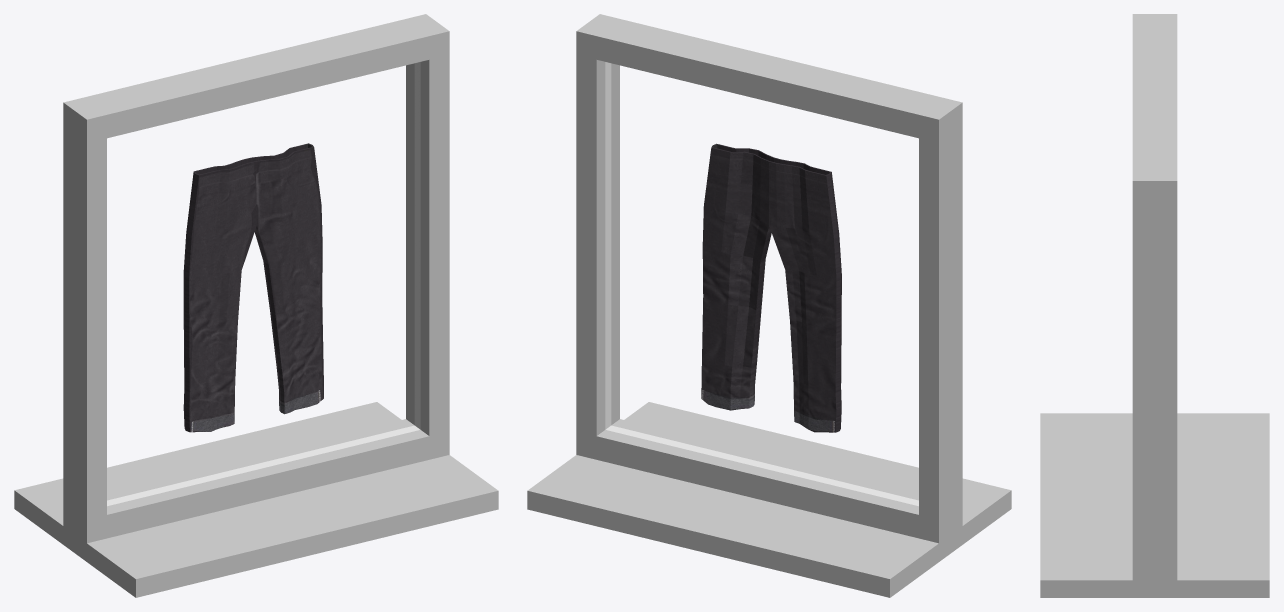
Rendered from inari_black_denim.glb.
3 views of the same model, side by side, from view 1: azimuth 30°, elevation 25°; view 2: azimuth 150°, elevation 25°; view 3: azimuth 270°, elevation 25° (orthographic). The views are drawn at different scales.
Visible parts, largest first — view 1: Cube.035, Plane.058; view 2: Cube.035, Plane.058; view 3: Cube.035.
Boxes of the visible parts, box(x1,y1,x2,y2) form: Cube.035: box(14, 14, 498, 597); Plane.058: box(183, 143, 323, 432); Cube.035: box(527, 14, 1011, 597); Plane.058: box(701, 143, 841, 432); Cube.035: box(1040, 14, 1269, 597).
Size of the model in its own units: 0.6242 by 0.7276 by 0.362.
3 materials, 1 textured.
